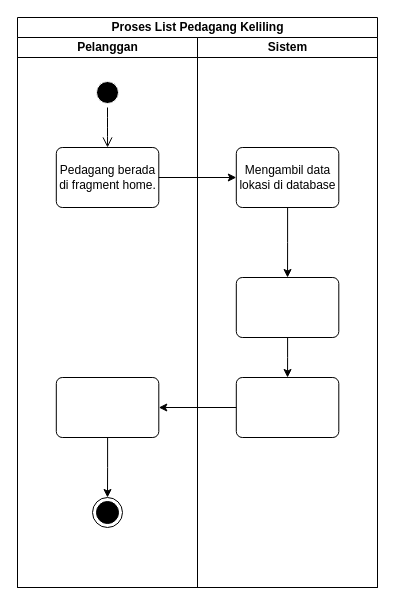
Image size: 395x605. Some labels were removed from this diagram. The box of each missing label's shape, as (x1, y1, x2, y2) in pixels:
Menampilkan list pedagang keliling: (55, 376, 159, 438)
Menggunakan rumus haversine untuk mendapat jarak.: (235, 276, 339, 338)
Mengurutkan list Pedagang keliling bedasrakan lokasi terdekat: (235, 376, 339, 438)
